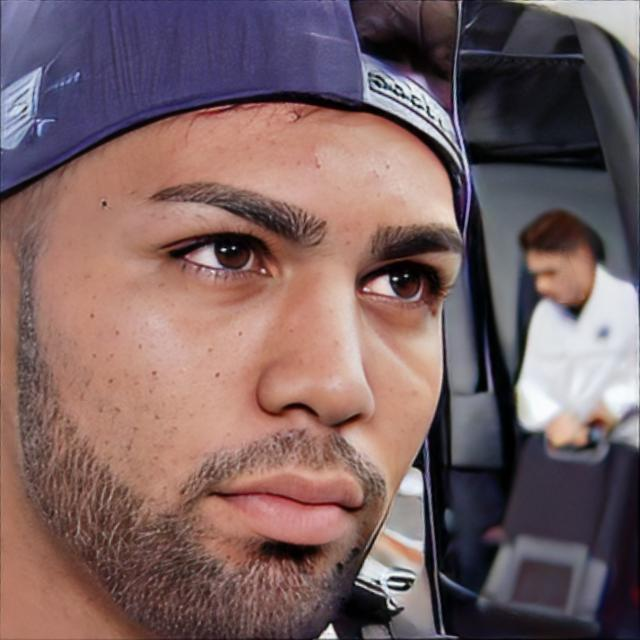anger: (34, 90, 460, 640)
